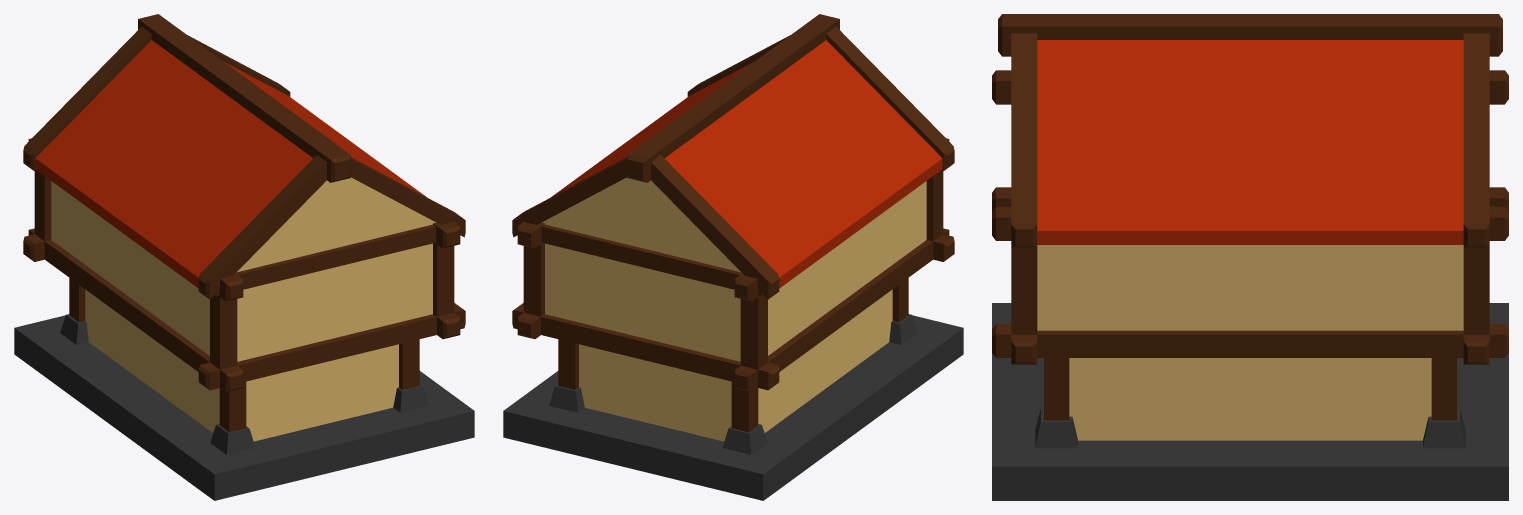
Rendered from MBS_City_House03.fbx.
The picture shows the model from 3 angles, left to right: view 1: azimuth 30°, elevation 25°; view 2: azimuth 150°, elevation 25°; view 3: azimuth 270°, elevation 25°; orthographic projection. The views are drawn at different scales.
Parts seen in each view (by area): view 1: Cube.414; view 2: Cube.414; view 3: Cube.414.
Boxes of the visible parts, box(x1,y1,x2,y2) form: Cube.414: box(14, 14, 474, 500); Cube.414: box(503, 14, 963, 500); Cube.414: box(992, 14, 1508, 500).
Bounding box in the file's own units: 1200 × 1362 × 1600.
